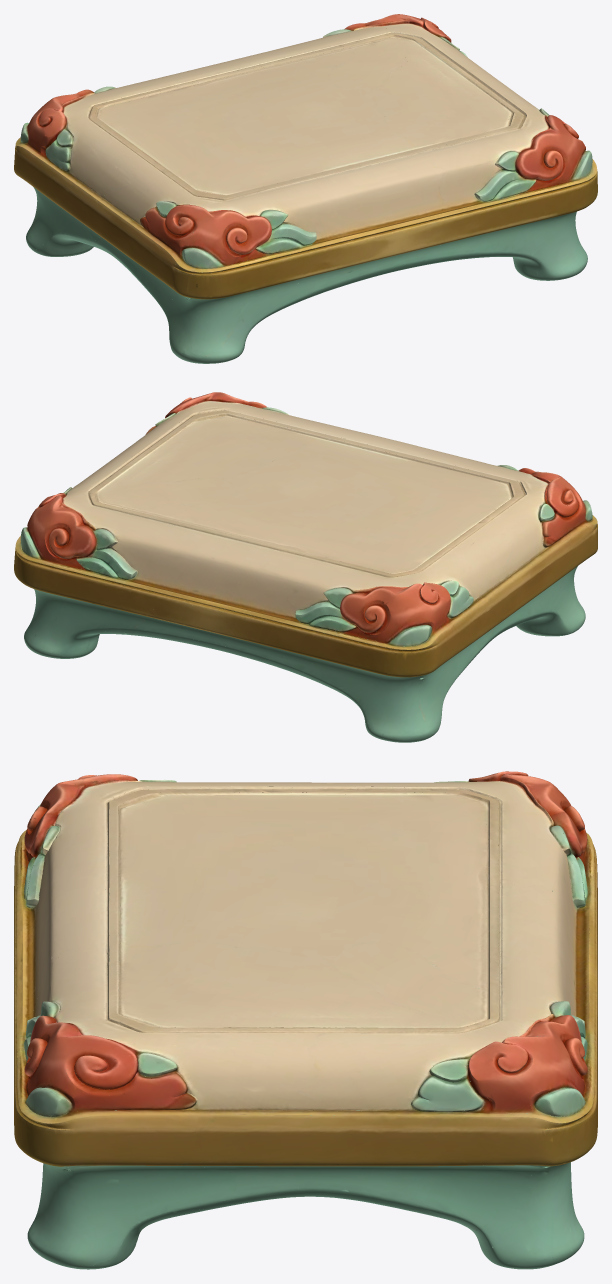
The model's file is act1_float_slab_rodin.glb.
The picture shows the model from 3 angles, top to bottom: view 1: azimuth 30°, elevation 25°; view 2: azimuth 150°, elevation 25°; view 3: azimuth 270°, elevation 25°; orthographic projection. The views are drawn at different scales.
Parts seen in each view (by area): view 1: model; view 2: model; view 3: model.
Boxes of the visible parts, x1,y1,x2,y2 form: model: (14, 14, 597, 363); model: (14, 392, 597, 742); model: (14, 771, 597, 1269).
Size of the model in its own units: 3.01 by 1 by 2.38.
Materials: 1 (1 with a texture image).
